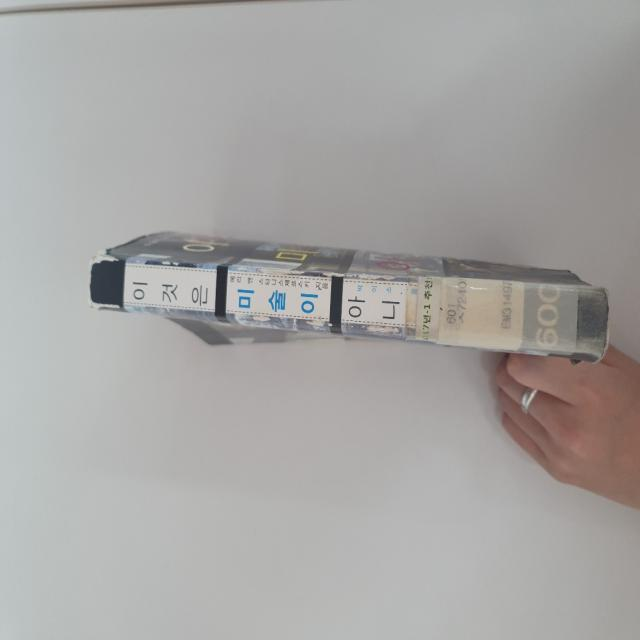Ripped: (86, 290, 127, 316), (85, 249, 125, 270)
Wornout: (593, 286, 612, 370), (344, 318, 405, 340), (317, 270, 400, 286), (254, 267, 310, 283), (302, 316, 340, 332), (249, 310, 275, 331), (156, 255, 190, 269)
